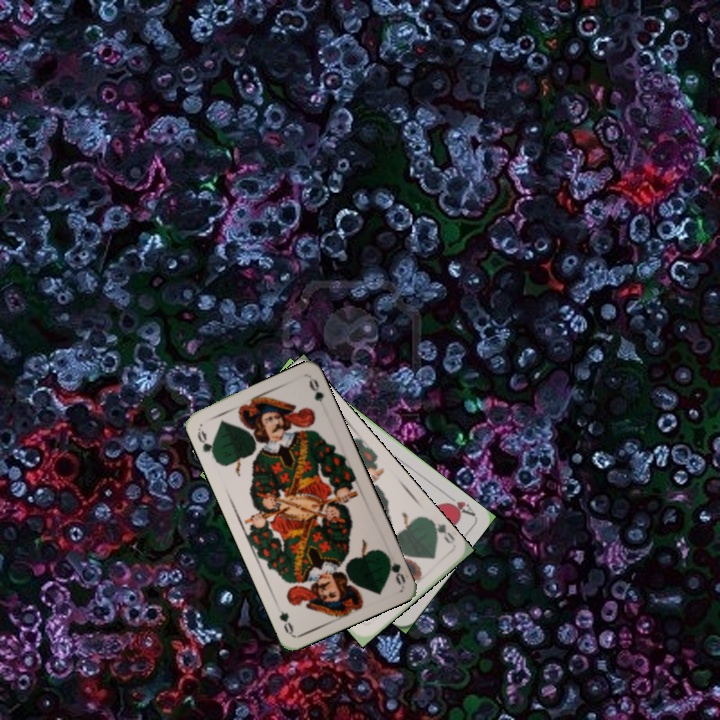GO: (379, 549, 408, 587), (425, 515, 458, 547), (193, 425, 218, 462)
HA: (440, 490, 477, 519)
